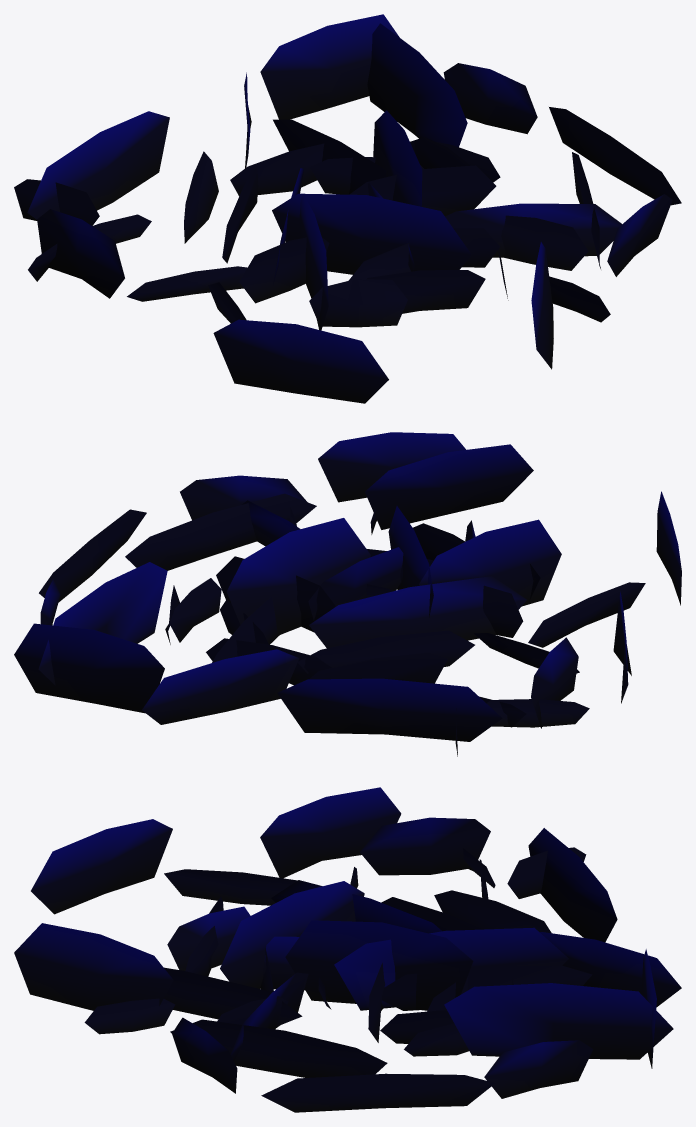
Rendered from SM_Grass_XS_Patch_L_01.fbx.
3 renders of one model, top to bottom at view 1: azimuth 30°, elevation 25°; view 2: azimuth 150°, elevation 25°; view 3: azimuth 270°, elevation 25°, orthographic. The views are drawn at different scales.
Visible parts, largest first — view 1: SM_Grass_XS_Patch_L_01; view 2: SM_Grass_XS_Patch_L_01; view 3: SM_Grass_XS_Patch_L_01.
Boxes of the visible parts, left/top/right/bottom form: SM_Grass_XS_Patch_L_01: left=14, top=14, right=681, bottom=403; SM_Grass_XS_Patch_L_01: left=14, top=432, right=681, bottom=756; SM_Grass_XS_Patch_L_01: left=14, top=787, right=681, bottom=1112.
Bounding box in the file's own units: 194 × 203 × 30.41.
